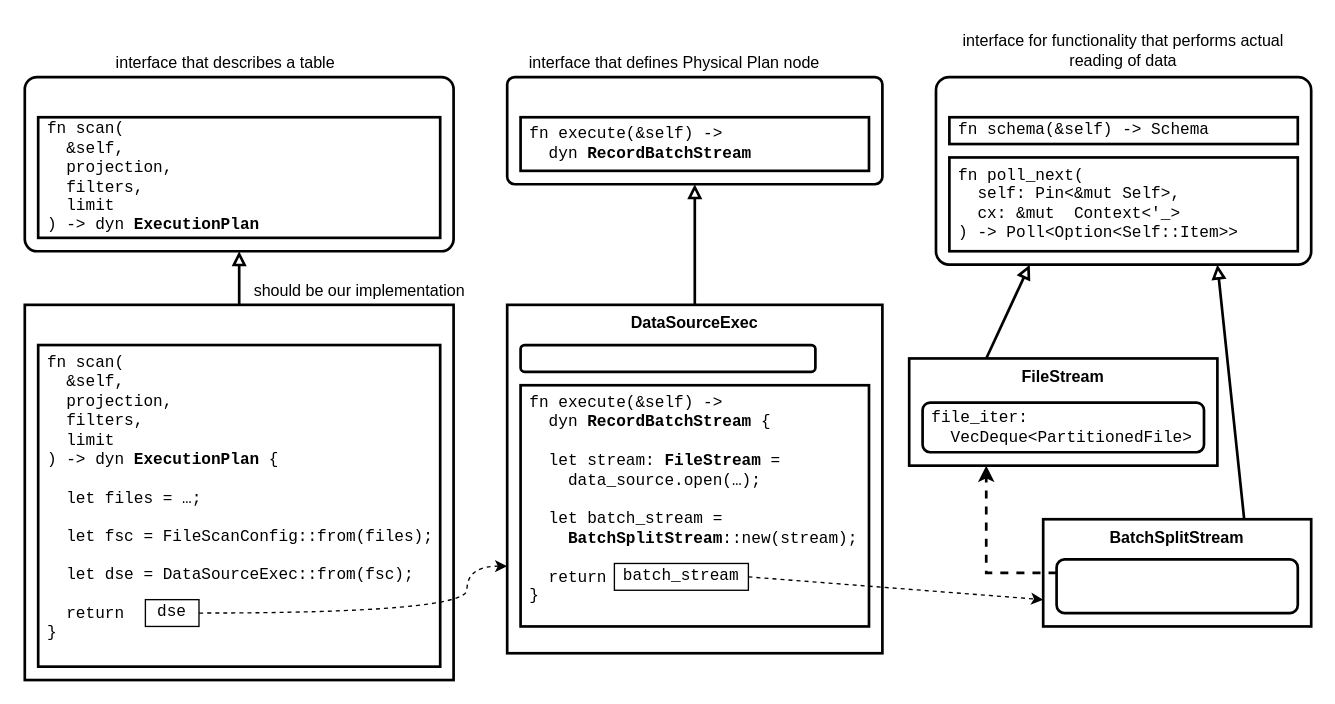
Some shapes in this 1335 by 704 pixel diagram are drawn without their labels. Each missing label, with the box of its shape:
data_source: FileScanConfig: (519, 343, 816, 373)
ExecutionPlan: (505, 75, 883, 185)
IndexedTableProvider: (23, 303, 454, 681)
input: dyn RecordBatchStream: (1055, 557, 1298, 614)
RecordBatchStream: Stream<RecordBatch>: (934, 75, 1312, 265)
TableProvider: (23, 75, 454, 252)
